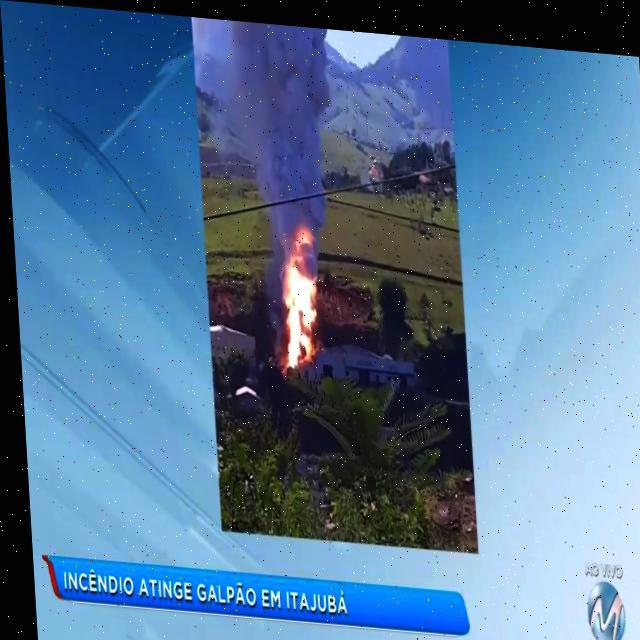Fire: (264, 208, 324, 374)
